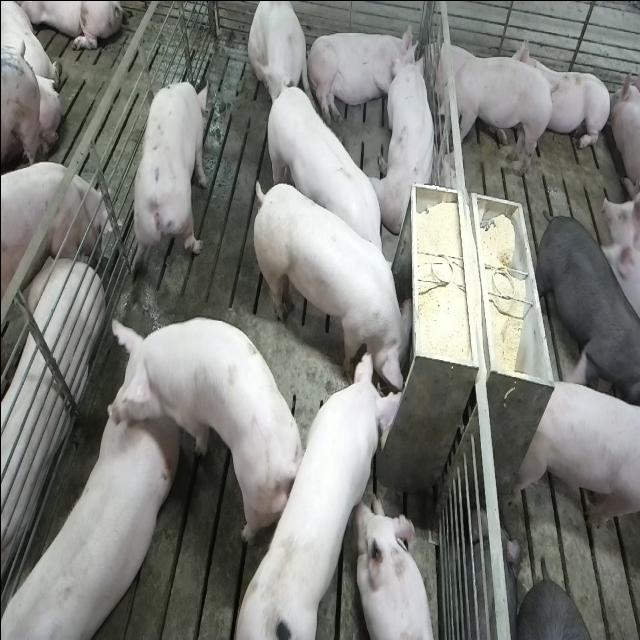Feeding: (238, 348, 412, 635), (254, 174, 419, 402)
Lateral_lying: (0, 232, 103, 596), (304, 20, 418, 126)
Sitting: (246, 1, 308, 121)
Standing: (103, 316, 299, 552), (0, 414, 168, 640), (261, 78, 391, 280), (534, 214, 638, 417), (513, 378, 639, 539), (425, 46, 555, 182), (128, 72, 209, 279), (0, 160, 107, 300)
Sternal_lying: (375, 46, 439, 234), (514, 30, 610, 154), (358, 495, 438, 640)
